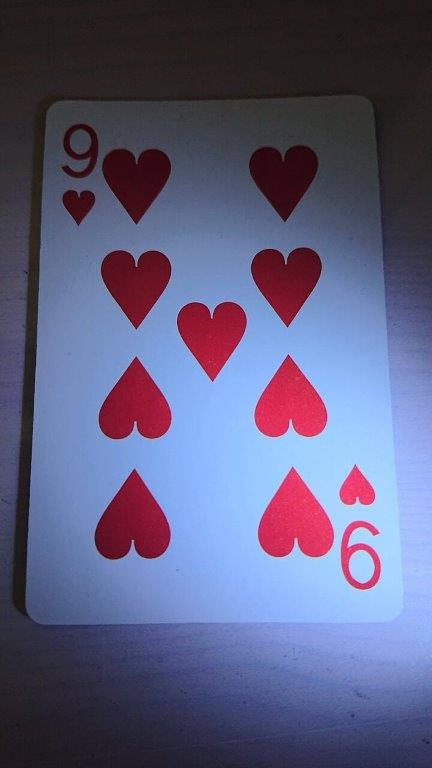9H: (21, 91, 406, 627)
